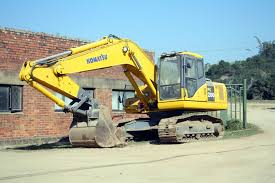excavator: (20, 35, 230, 152)
